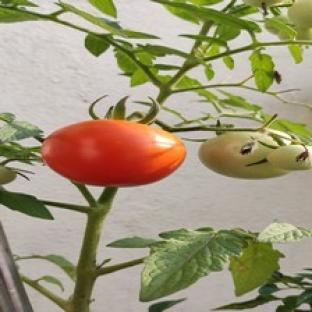Tomato: (42, 120, 186, 186), (200, 133, 288, 179), (268, 145, 311, 169), (0, 166, 16, 185)
